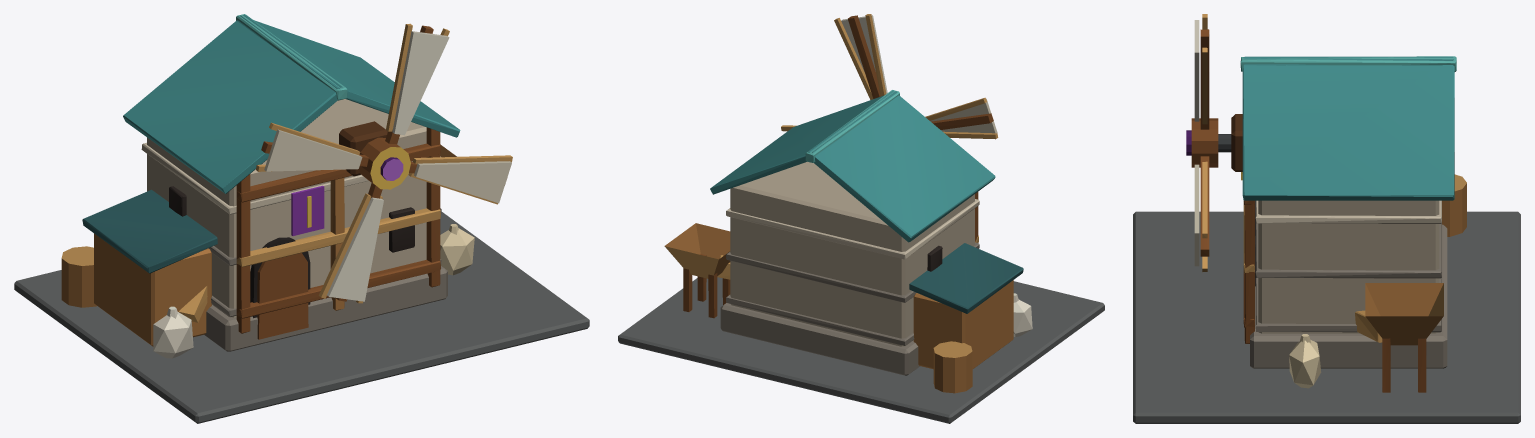
3 renders of one model, left to right at view 1: azimuth 30°, elevation 25°; view 2: azimuth 150°, elevation 25°; view 3: azimuth 270°, elevation 25°, orthographic. The views are drawn at different scales.
Visible parts, largest first — view 1: WK_CityMill_LOD2_Compact; view 2: WK_CityMill_LOD2_Compact; view 3: WK_CityMill_LOD2_Compact.
Part boxes in pixels (left/top/right/bottom): WK_CityMill_LOD2_Compact: left=14, top=14, right=589, bottom=423; WK_CityMill_LOD2_Compact: left=618, top=14, right=1104, bottom=423; WK_CityMill_LOD2_Compact: left=1133, top=14, right=1520, bottom=423.
Size of the model in its own units: 9.3 by 7.12 by 7.5.
